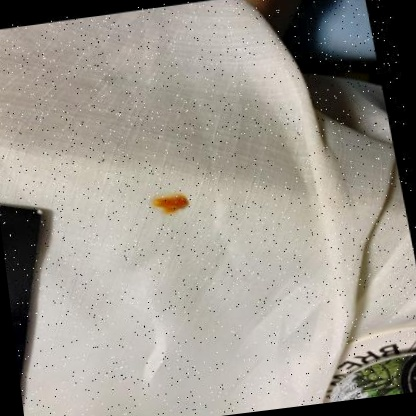kimchi: (145, 189, 192, 220)
